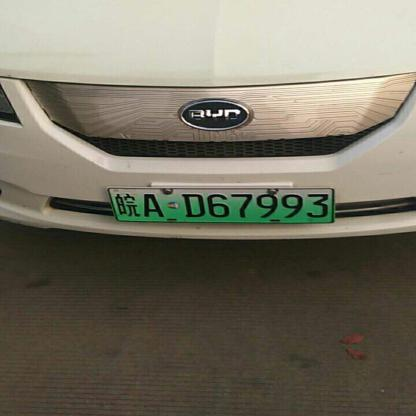lp: (108, 186, 334, 222)
